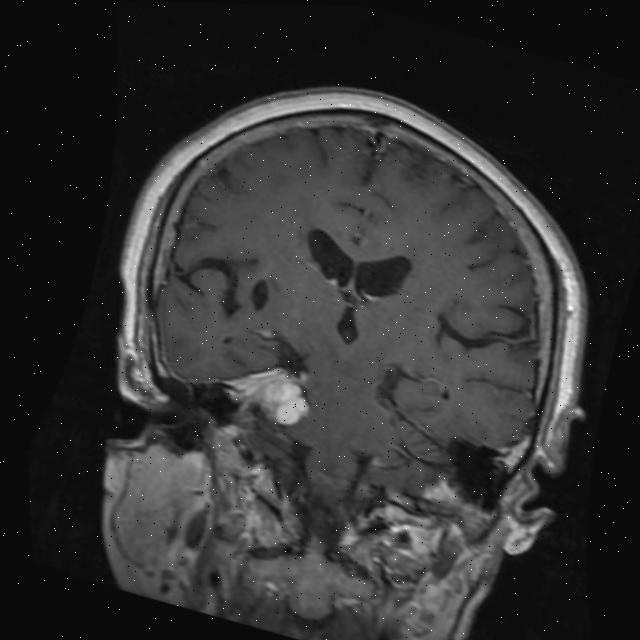Meningioma: (216, 351, 322, 434)
